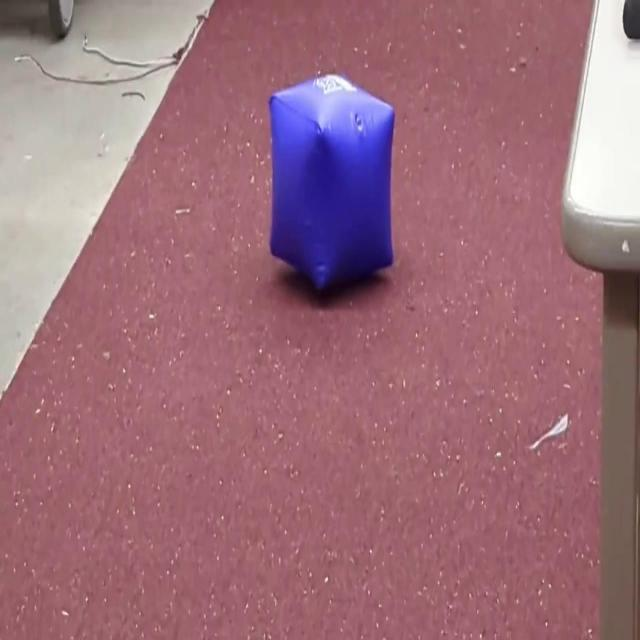frc_cube: (268, 68, 396, 294)
